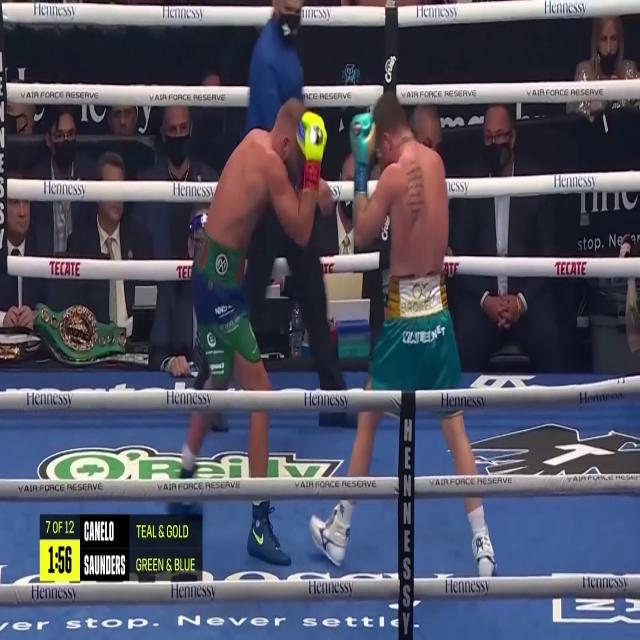boxer_1: (205, 98, 304, 249)
boxer_2: (373, 90, 448, 276)
gloves_1: (297, 110, 327, 193)
gloves_2: (350, 113, 376, 193)
